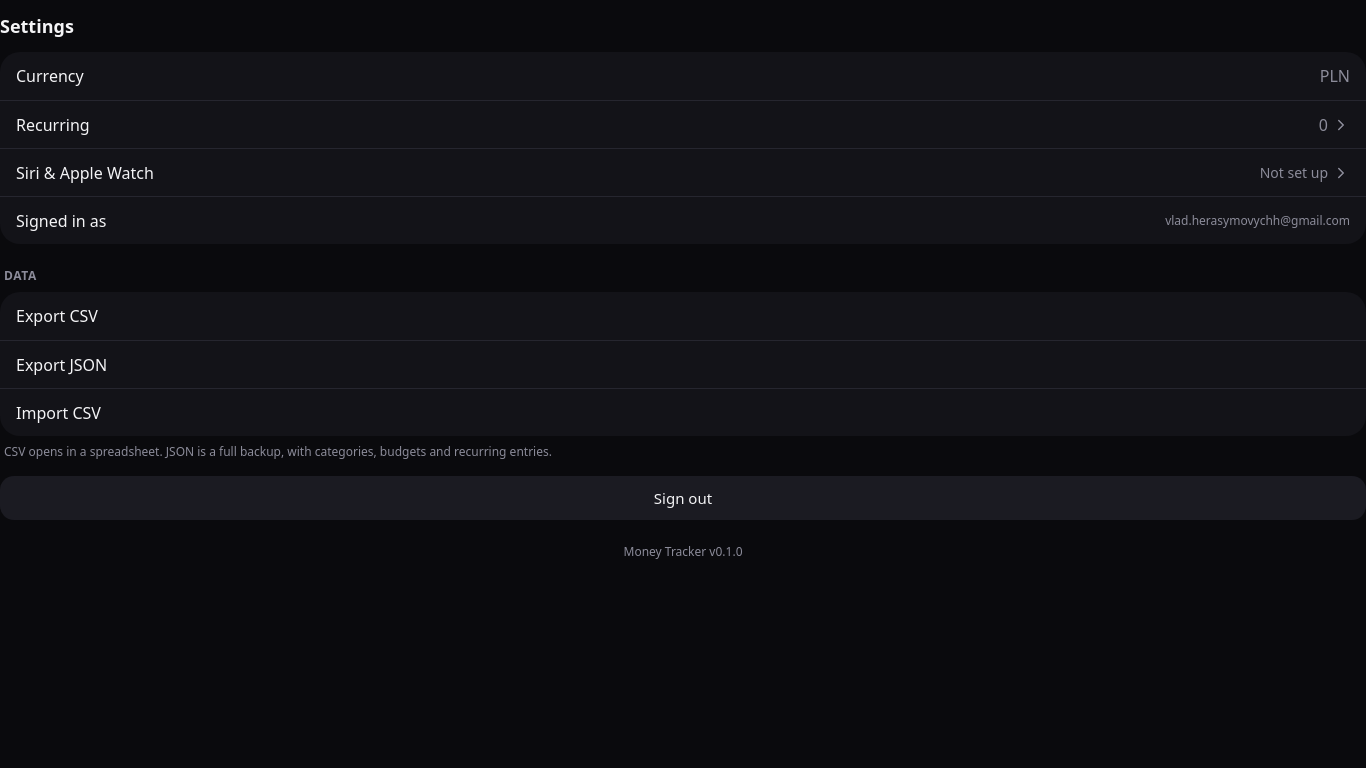
Test case: SettingsPage › currency › closes without saving when dismissed
Click the button "Currency PLN".
click(50, 76)  # box [0,52,1365,100]
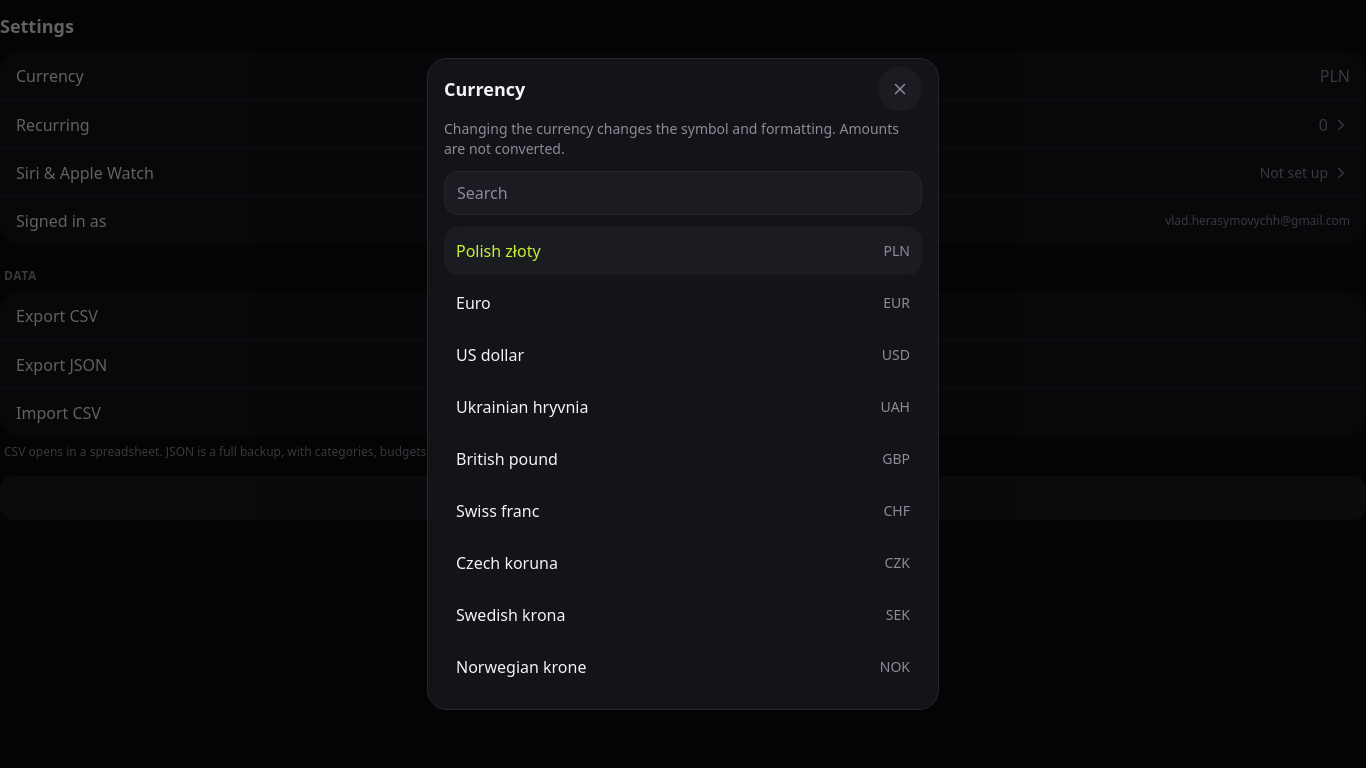
Click the button named "Close".
click(900, 89)  # box [878,67,922,111]
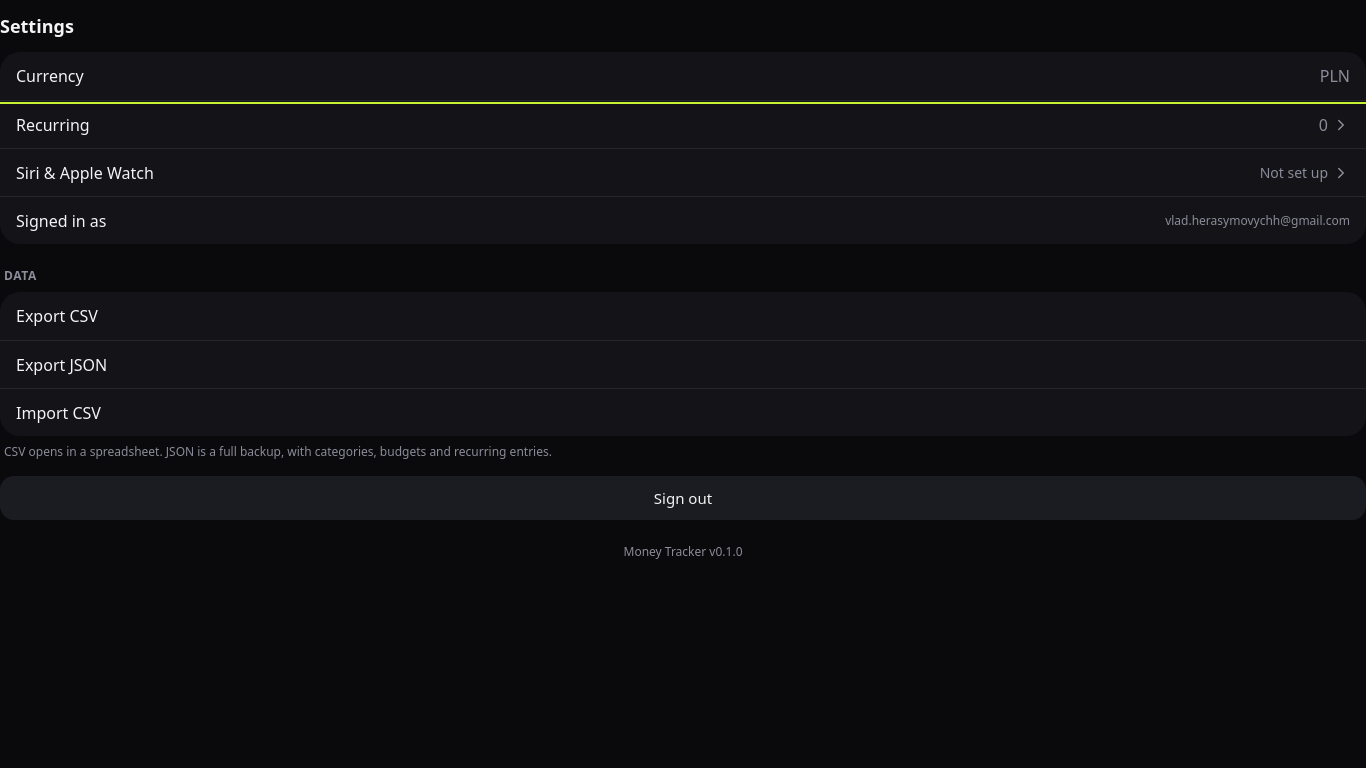
Now the dialog is gone
